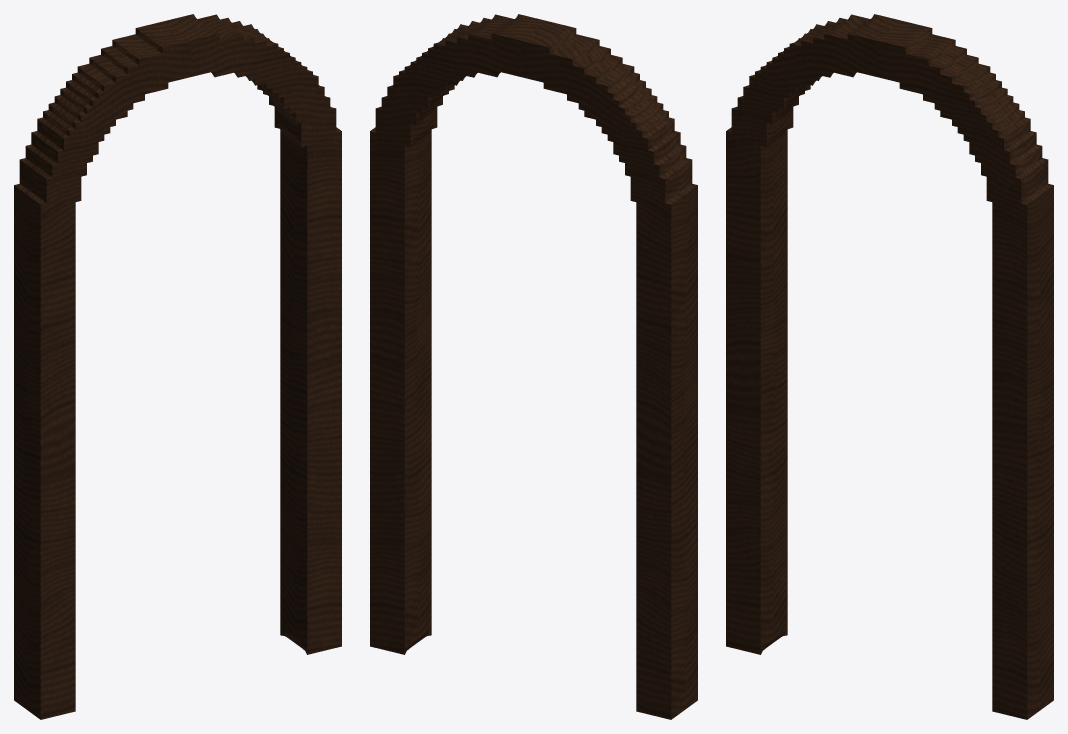
The model's file is door_frame_round.glb.
3 renders of one model, left to right at view 1: azimuth 30°, elevation 25°; view 2: azimuth 150°, elevation 25°; view 3: azimuth 330°, elevation 25°, orthographic.
Visible parts, largest first — view 1: town_door_frame_round; view 2: town_door_frame_round; view 3: town_door_frame_round.
Part boxes in pixels (<box>): town_door_frame_round: <box>14,14,341,719</box>; town_door_frame_round: <box>370,14,697,719</box>; town_door_frame_round: <box>726,14,1053,719</box>.
Size of the model in its own units: 0.8125 by 1.66 by 0.125.
1 material, 1 textured.
